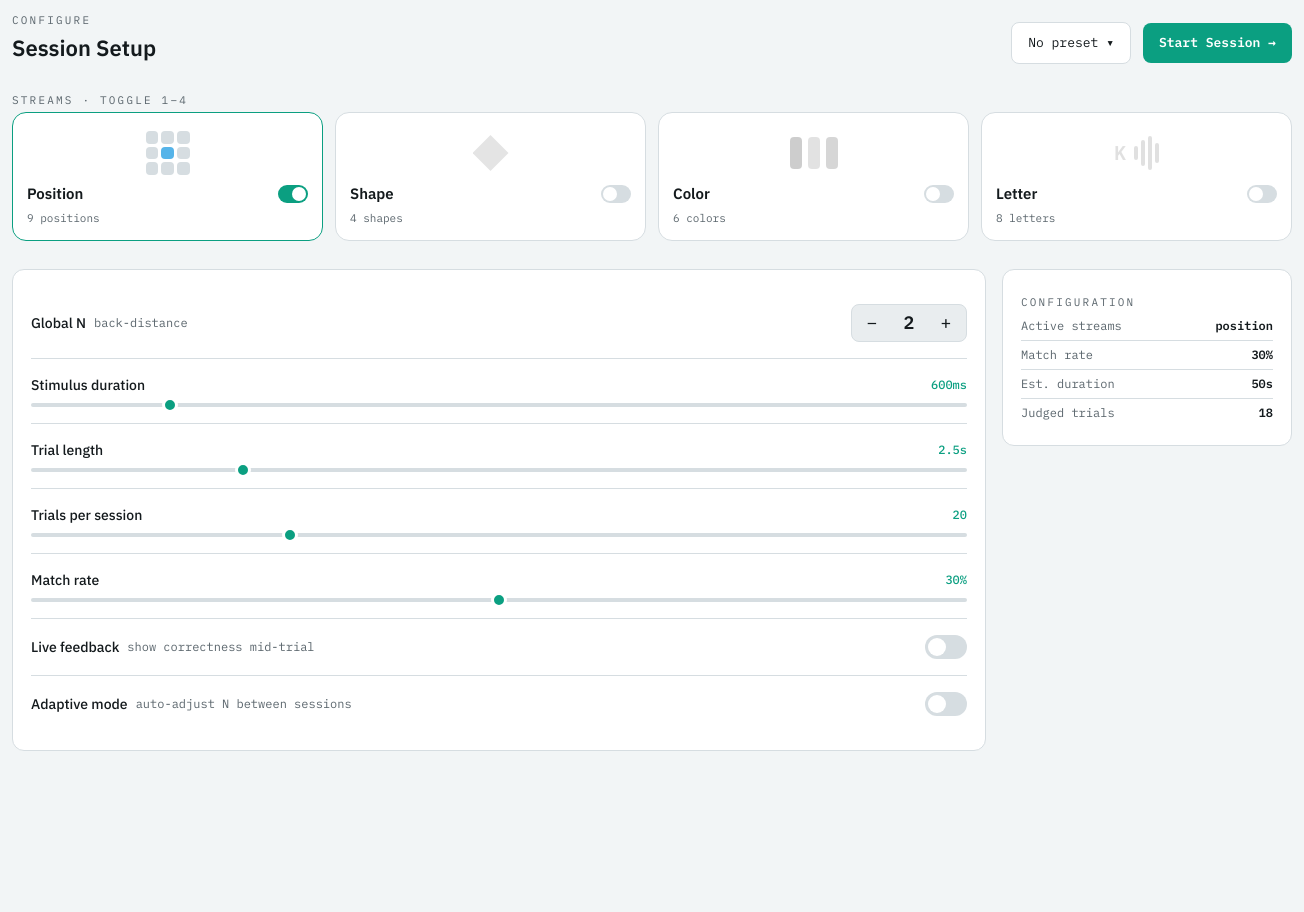
Test: ConfigForm › saves a preset on Enter from the picker instead of starting a session
Click the button "No preset ▾": x=1071, y=43 [1011,22,1131,64]
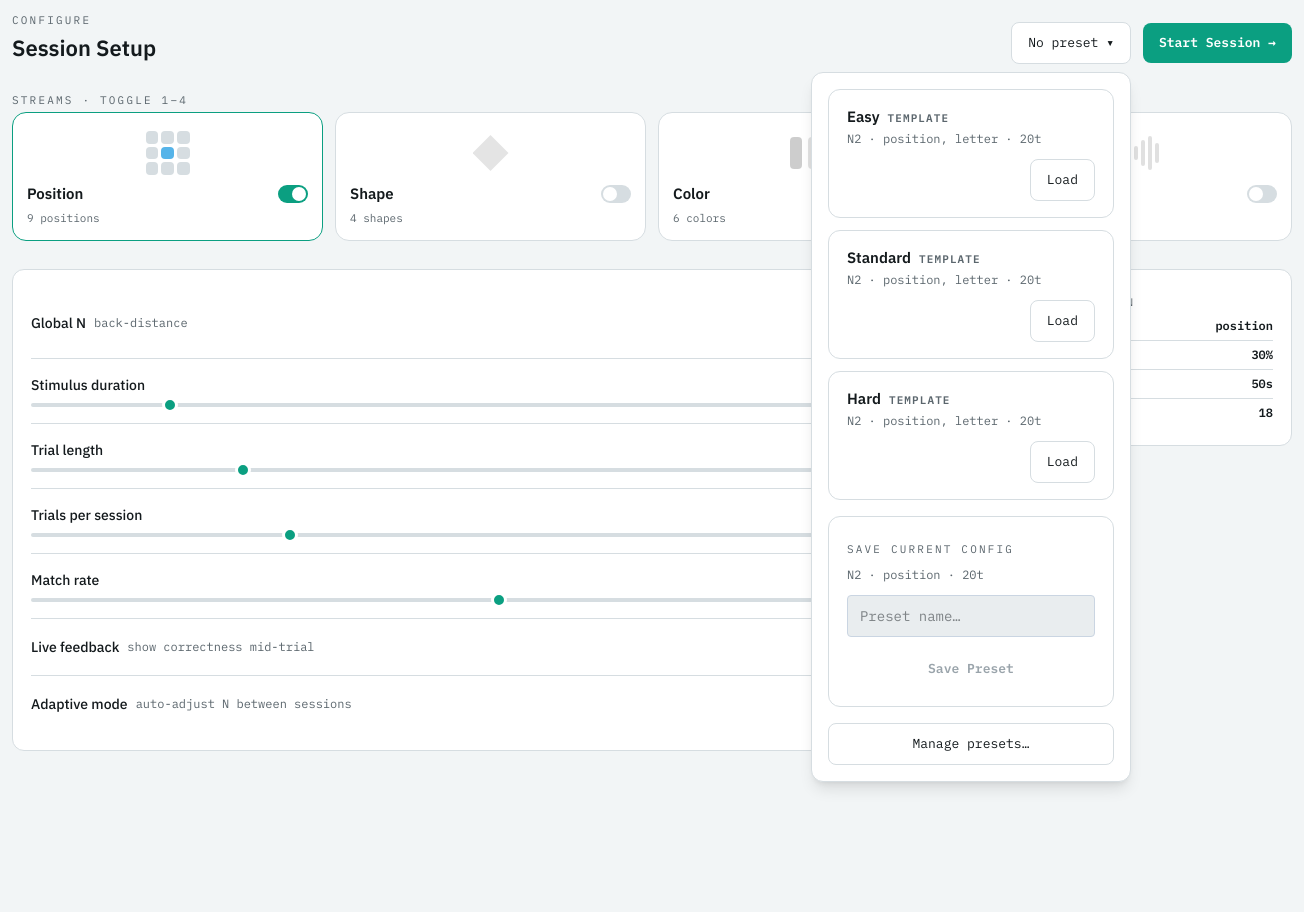
In the field labelled "Preset name…": x=971, y=616 [847,594,1095,636], type "Warm-up"
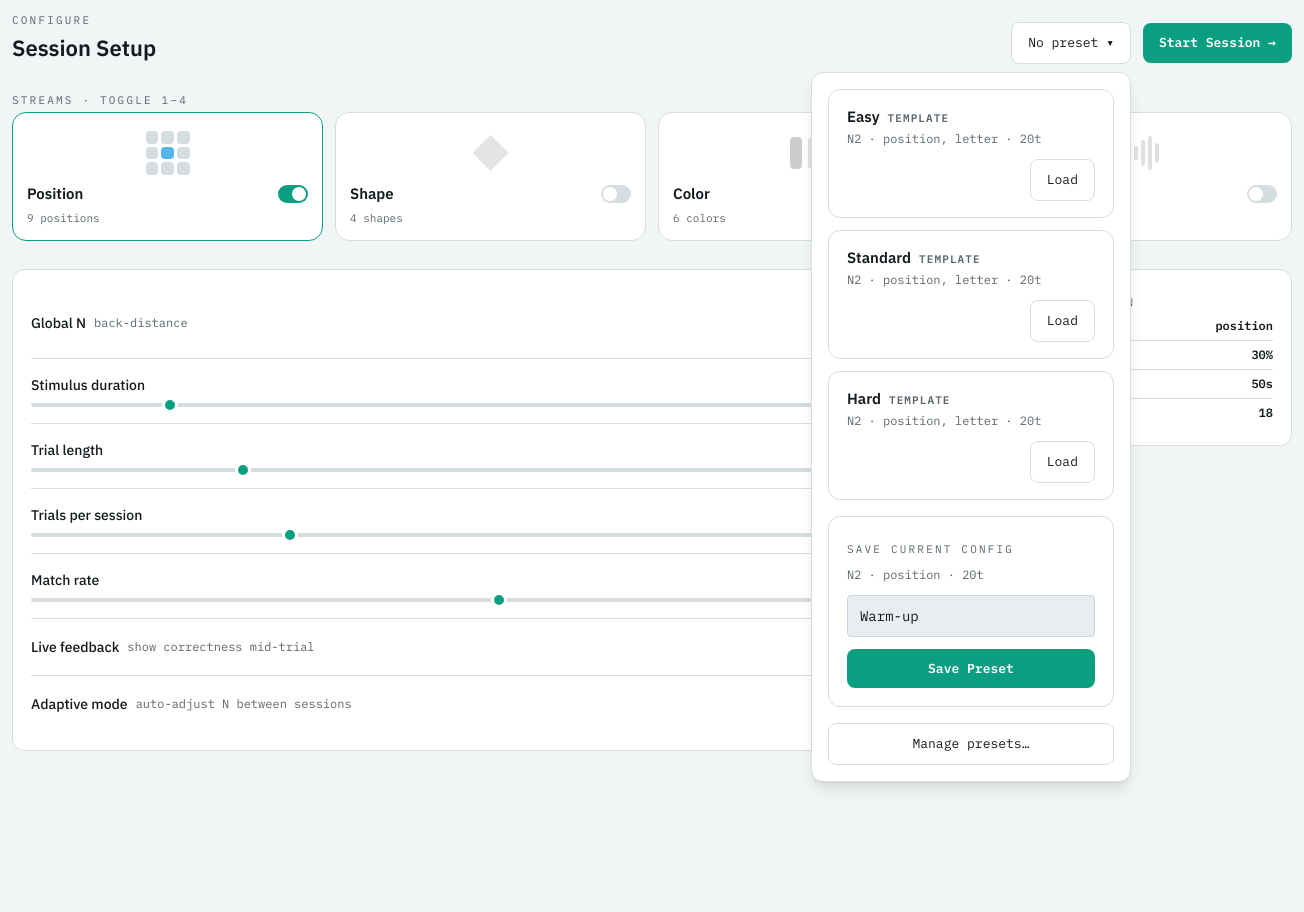
Press Enter in the field named "Preset name", box [847,594,1095,636]
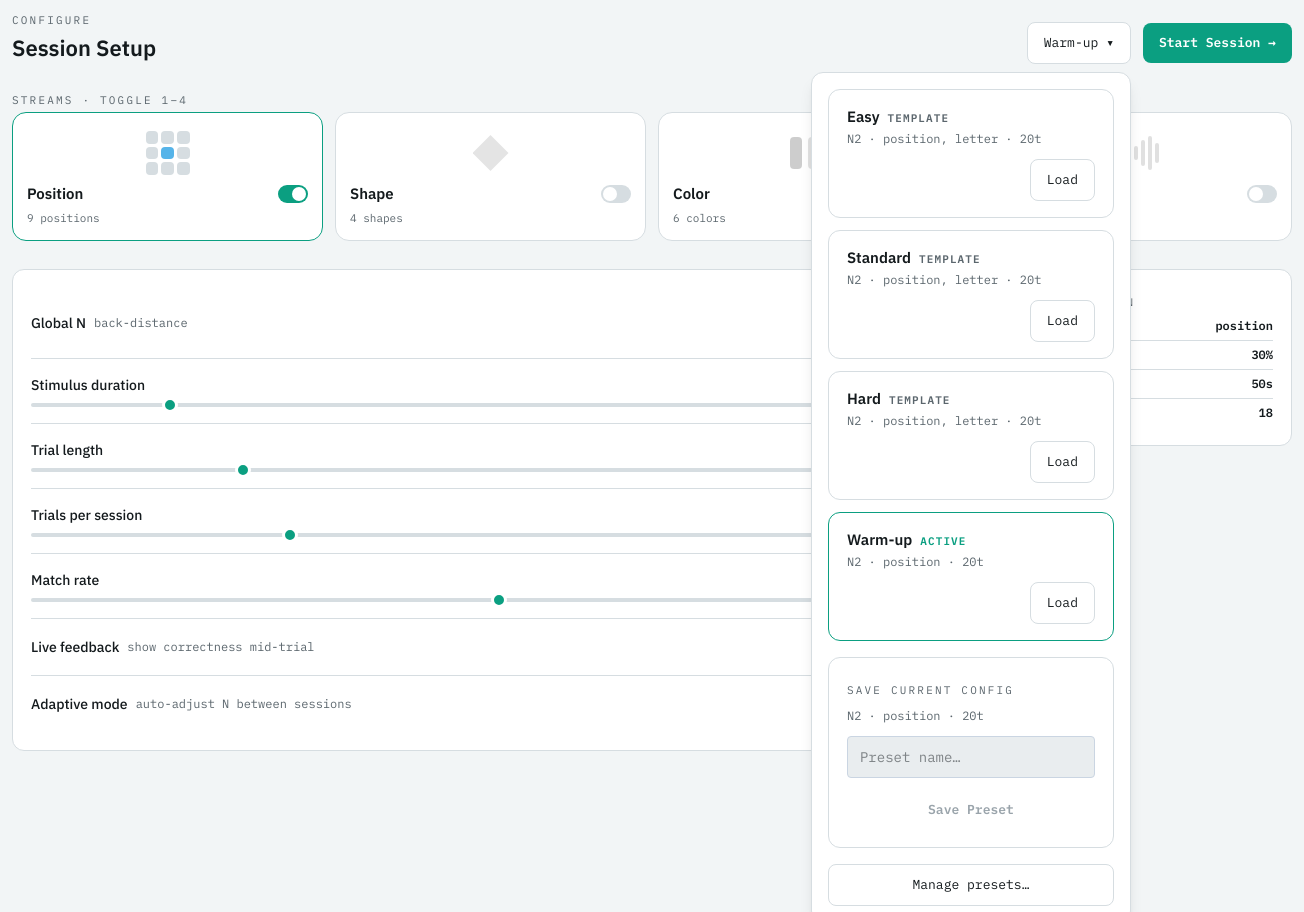
Expected: the button "Warm-up ▾" is shown, [1027,22,1131,64]
